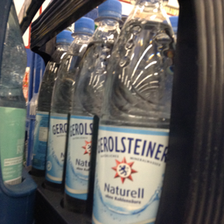water: (92, 1, 176, 224), (66, 2, 118, 195)
